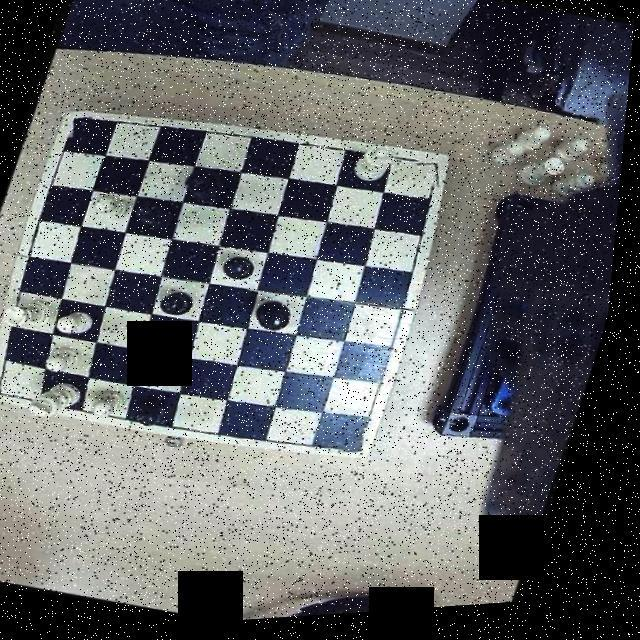chess-table-corners: (411, 156, 453, 197), (343, 428, 382, 468), (60, 106, 100, 144), (0, 374, 26, 404)
